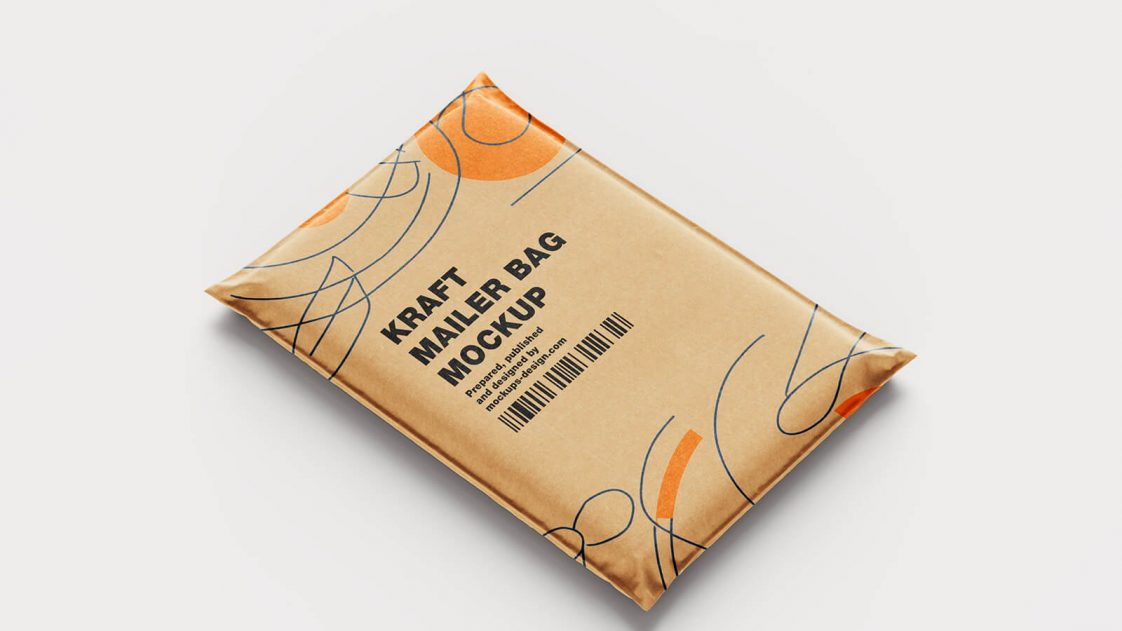塑料袋: (208, 76, 915, 603)
